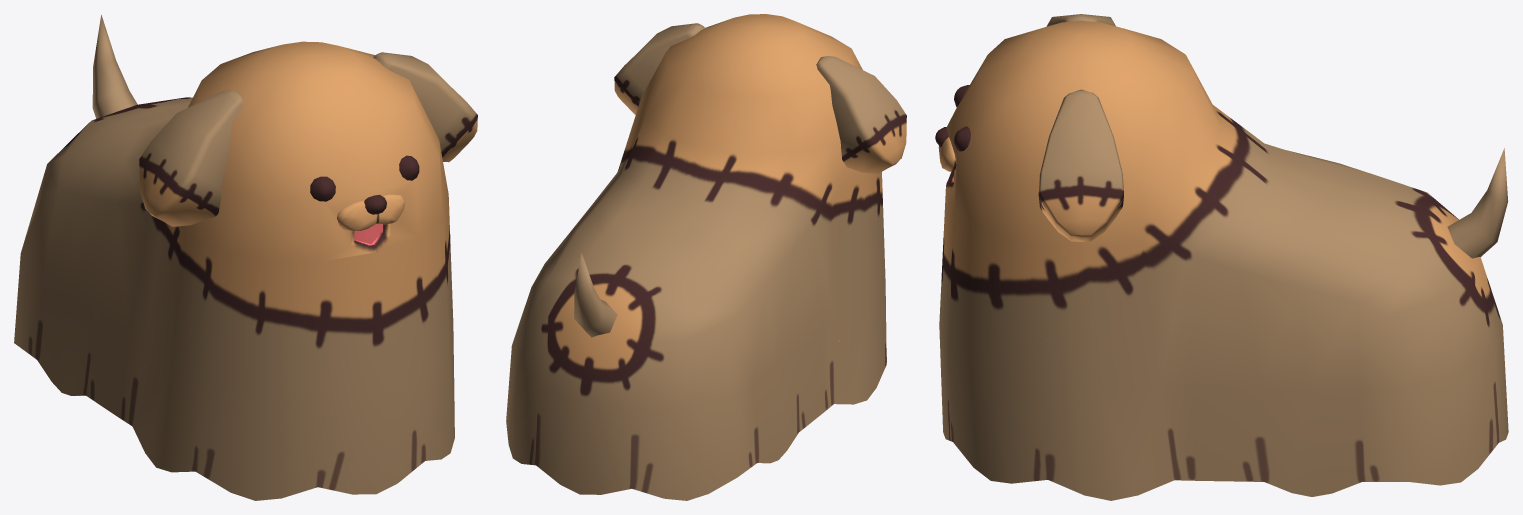
Rendered from SM_Casper09.fbx.
The picture shows the model from 3 angles, left to right: view 1: azimuth 30°, elevation 25°; view 2: azimuth 150°, elevation 25°; view 3: azimuth 270°, elevation 25°; orthographic projection. The views are drawn at different scales.
Parts seen in each view (by area): view 1: Casper09; view 2: Casper09; view 3: Casper09.
Boxes of the visible parts, x1,y1,x2,y2 form: Casper09: (14,15,477,500); Casper09: (506,14,906,500); Casper09: (935,14,1508,500).
Bounding box in the file's own units: 94.26 × 110 × 144.
